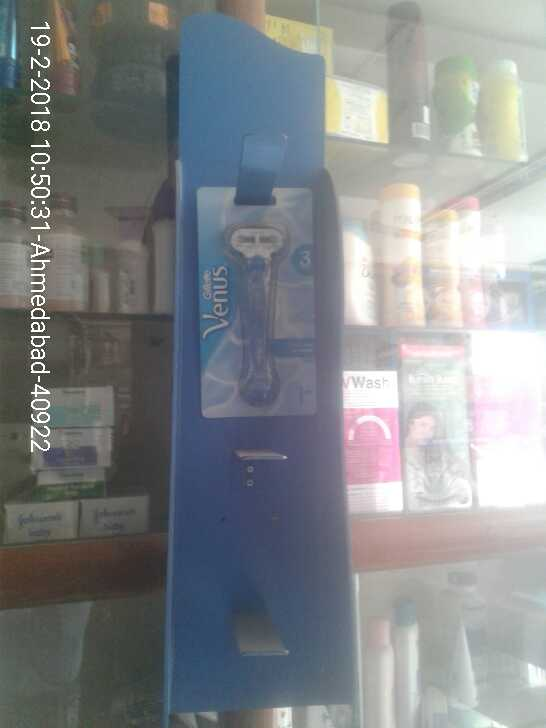venus: (196, 184, 322, 429)
